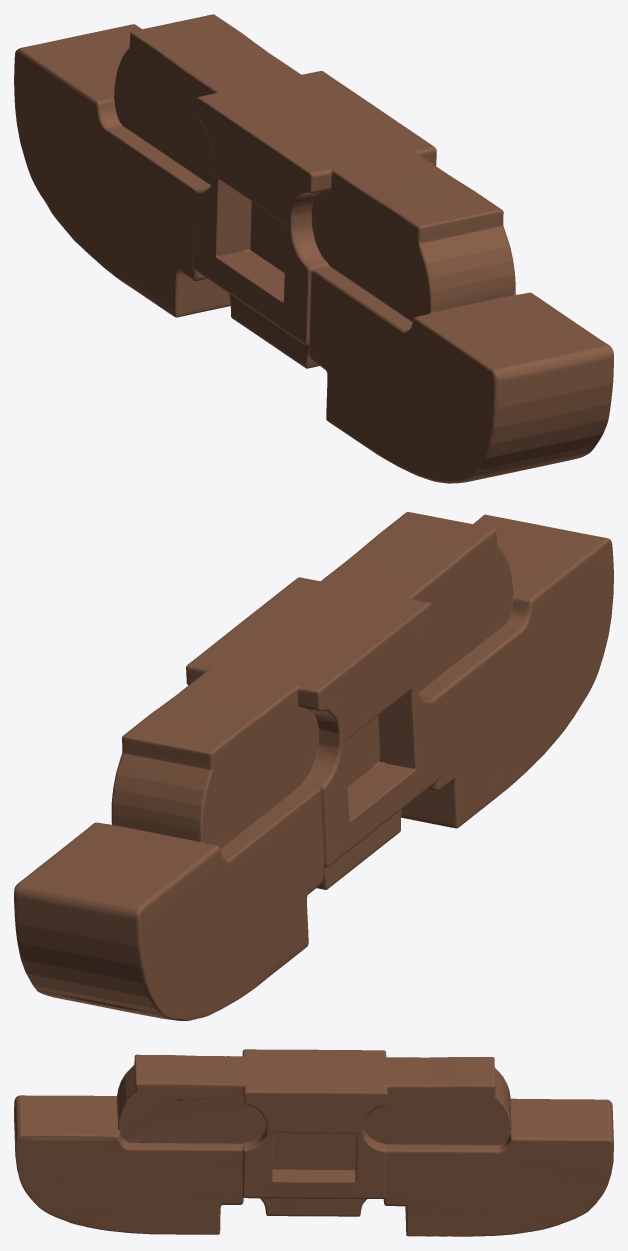
3 renders of one model, top to bottom at view 1: azimuth 30°, elevation 25°; view 2: azimuth 150°, elevation 25°; view 3: azimuth 270°, elevation 25°, orthographic. The views are drawn at different scales.
Parts seen in each view (by area): view 1: 华拱; view 2: 华拱; view 3: 华拱.
Part boxes in pixels (x1,y1,x2,y2): 华拱: (14,14,613,483); 华拱: (14,512,613,1020); 华拱: (14,1049,613,1236).
Size of the model in its own units: 0.0813 by 0.1362 by 0.4756.
